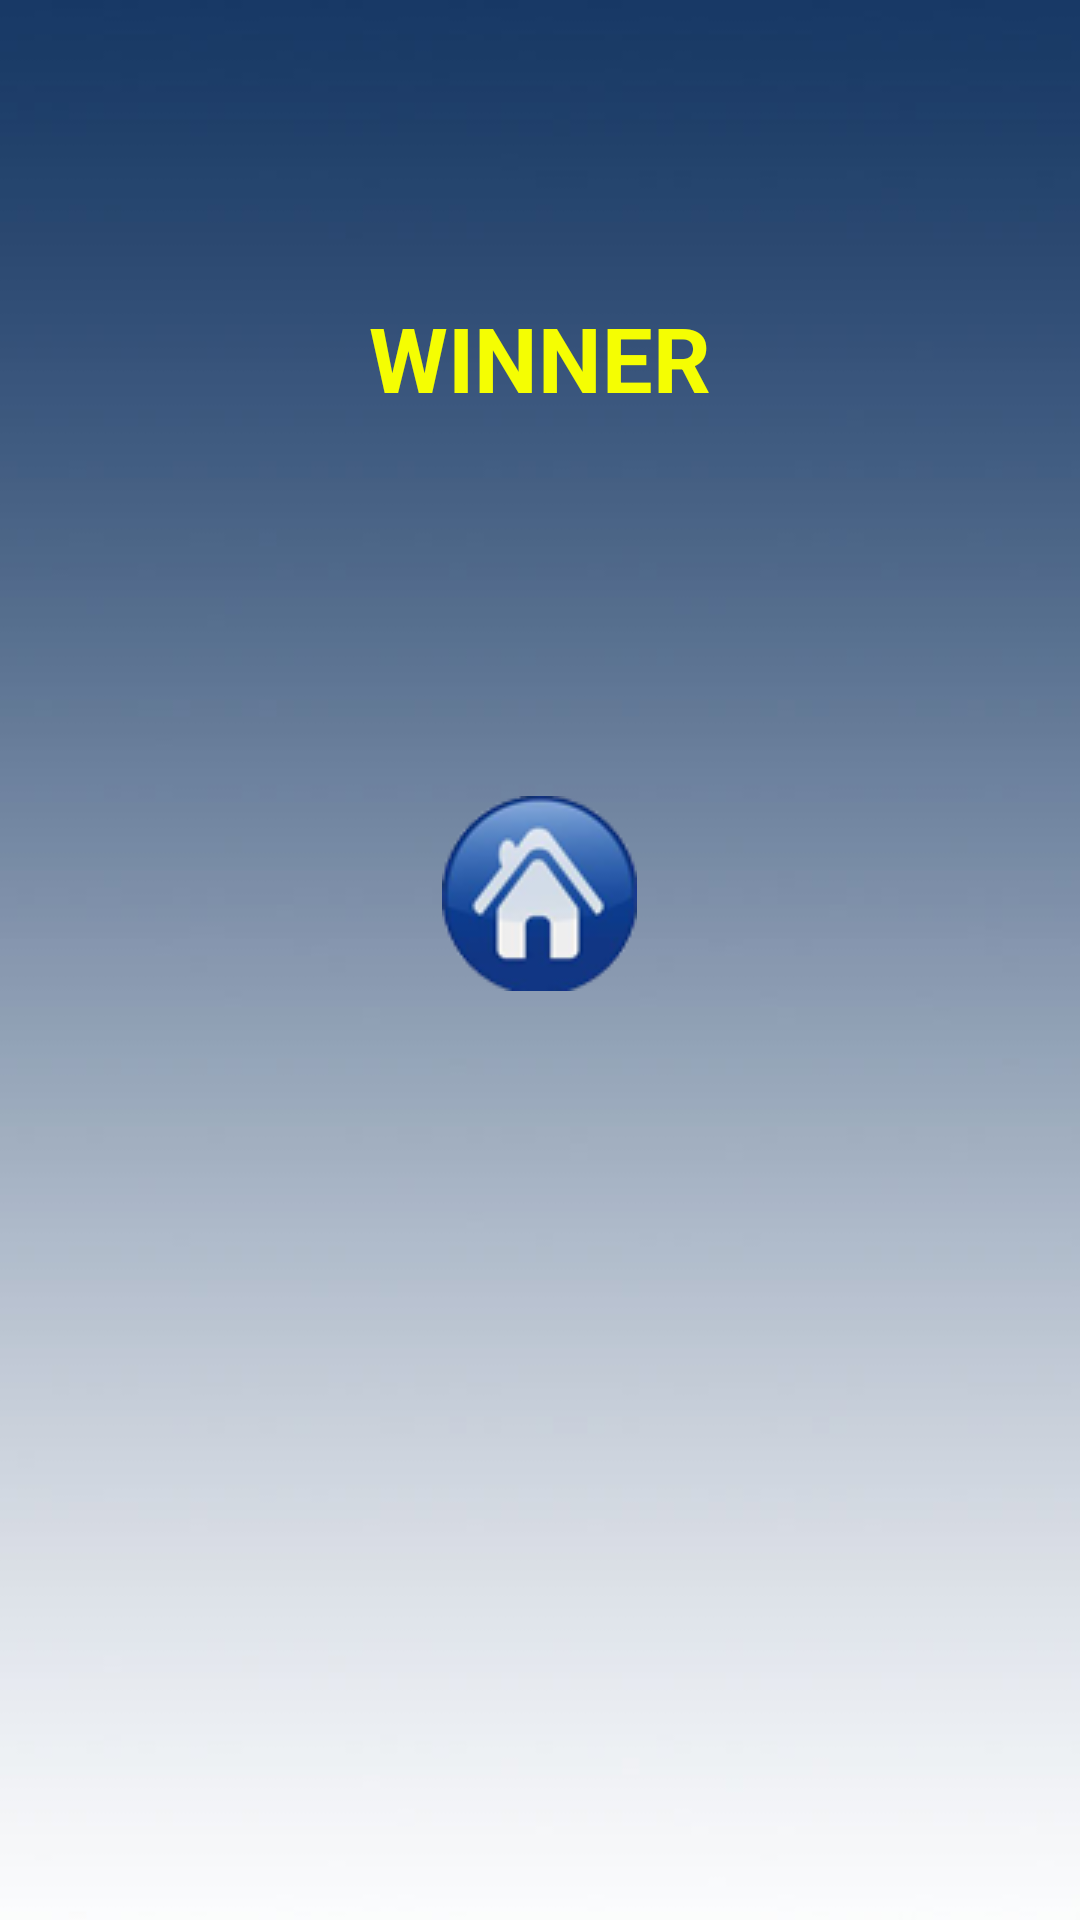

Locate icon controls on the screen. Image size 1080 × 1920, boxes as box(x1, y1, x2, y2).
home: box(442, 796, 637, 991)
